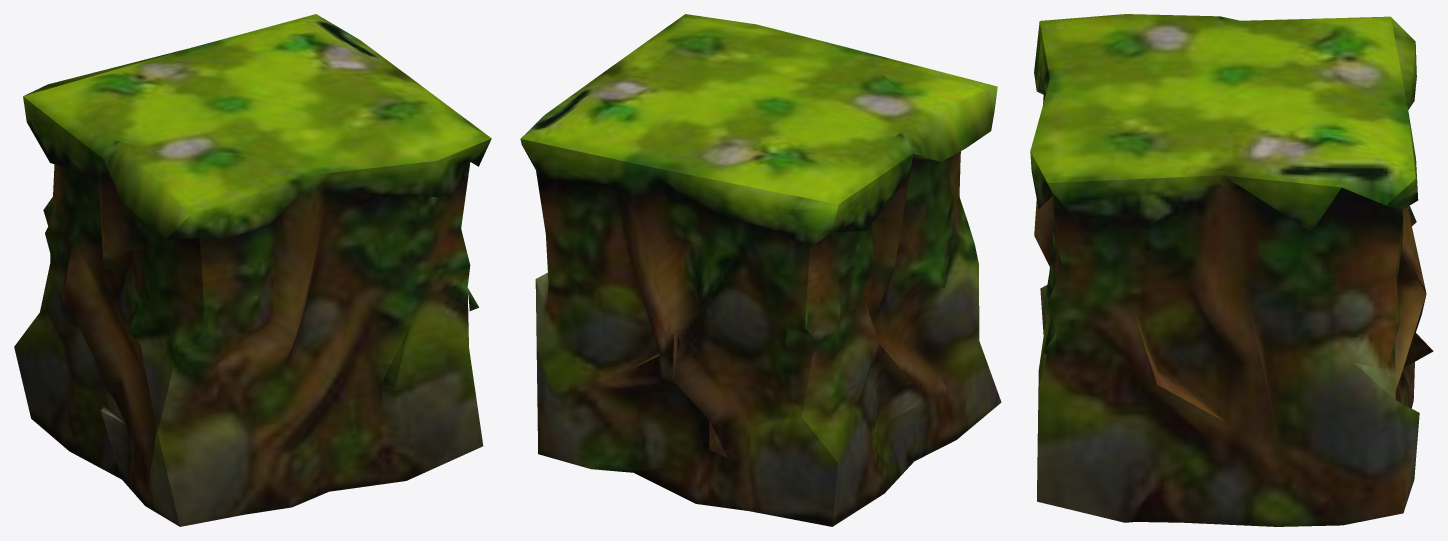
The model's file is b_racines_mur_2.glb.
The picture shows the model from 3 angles, left to right: view 1: azimuth 30°, elevation 25°; view 2: azimuth 150°, elevation 25°; view 3: azimuth 270°, elevation 25°; orthographic projection. The views are drawn at different scales.
Parts seen in each view (by area): view 1: geometry_0; view 2: geometry_0; view 3: geometry_0.
Part boxes in pixels (x1=…): geometry_0: x1=14, y1=14, x2=491, y2=526; geometry_0: x1=520, y1=14, x2=1001, y2=526; geometry_0: x1=1030, y1=14, x2=1433, y2=526.
Size of the model in its own units: 1 by 1.01 by 1.
Materials: 1 (1 with a texture image).
